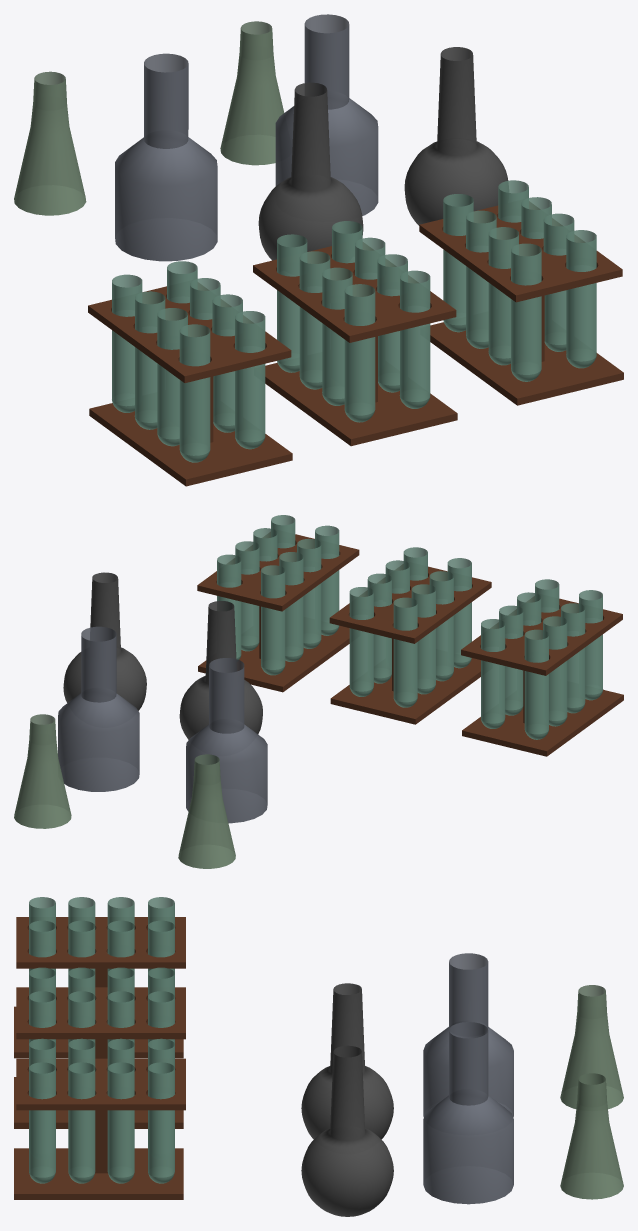
The model's file is objetos Laboratorio.fbx.
3 views of the same model, one above another, from view 1: azimuth 30°, elevation 25°; view 2: azimuth 150°, elevation 25°; view 3: azimuth 270°, elevation 25° (orthographic). The views are drawn at different scales.
Parts seen in each view (by area): view 1: maletin:pCylinder26, maletin:pSphere11, pCylinder26, pSphere11, pCylinder27, maletin:pCylinder27, maletin:pCube18, maletin:pCube15, maletin:pCube4, maletin:pCube16, maletin:pCube13, maletin:pCube19 (+24 smaller); view 2: pCylinder26, maletin:pCylinder26, pCylinder27, maletin:pCylinder27, pSphere11, maletin:pSphere11, maletin:pCube18, maletin:pCube4, maletin:pCube16, maletin:pCube13, maletin:pCube19, maletin:pCube15 (+24 smaller); view 3: pCylinder26, maletin:pSphere11, maletin:pCylinder26, pSphere11, maletin:pCylinder27, maletin:pCube15, maletin:pCube16, maletin:pCube13, maletin:pCube19, pCylinder27, maletin:pCylinder10, maletin:pCylinder12 (+25 smaller).
Boxes of the visible parts, x1=… form: maletin:pCylinder26: x1=115, y1=53, x2=217, y2=261; maletin:pSphere11: x1=404, y1=47, x2=508, y2=225; pCylinder26: x1=275, y1=14, x2=378, y2=215; pSphere11: x1=258, y1=82, x2=363, y2=260; pCylinder27: x1=14, y1=71, x2=86, y2=215; maletin:pCylinder27: x1=220, y1=21, x2=284, y2=165; maletin:pCube18: x1=89, y1=403, x2=292, y2=486; maletin:pCube15: x1=430, y1=322, x2=623, y2=405; maletin:pCube4: x1=265, y1=362, x2=457, y2=446; maletin:pCube16: x1=419, y1=205, x2=622, y2=302; maletin:pCube13: x1=253, y1=246, x2=456, y2=342; maletin:pCube19: x1=88, y1=286, x2=291, y2=382; pCylinder26: x1=58, y1=626, x2=139, y2=791; maletin:pCylinder26: x1=186, y1=658, x2=267, y2=823; pCylinder27: x1=178, y1=754, x2=235, y2=868; maletin:pCylinder27: x1=14, y1=714, x2=71, y2=828; pSphere11: x1=179, y1=601, x2=262, y2=739; maletin:pSphere11: x1=63, y1=572, x2=146, y2=710; maletin:pCube18: x1=462, y1=689, x2=623, y2=756; maletin:pCube4: x1=330, y1=658, x2=480, y2=724; maletin:pCube16: x1=197, y1=534, x2=359, y2=611; maletin:pCube13: x1=329, y1=566, x2=491, y2=643; maletin:pCube19: x1=461, y1=598, x2=622, y2=675; maletin:pCube15: x1=198, y1=625, x2=349, y2=692; pCylinder26: x1=423, y1=1022, x2=513, y2=1204; maletin:pSphere11: x1=301, y1=1045, x2=393, y2=1216; maletin:pCylinder26: x1=423, y1=953, x2=513, y2=1117; pSphere11: x1=301, y1=983, x2=393, y2=1139; maletin:pCylinder27: x1=560, y1=1073, x2=623, y2=1199; maletin:pCube15: x1=14, y1=1148, x2=183, y2=1199; maletin:pCube16: x1=16, y1=1058, x2=185, y2=1110; maletin:pCube13: x1=16, y1=987, x2=185, y2=1039; maletin:pCube19: x1=16, y1=917, x2=185, y2=968; pCylinder27: x1=560, y1=985, x2=623, y2=1109; maletin:pCylinder10: x1=107, y1=1062, x2=134, y2=1183; maletin:pCylinder12: x1=68, y1=1062, x2=95, y2=1183.
Bounding box in the file's own units: 8.07 × 2.8 × 9.59.
